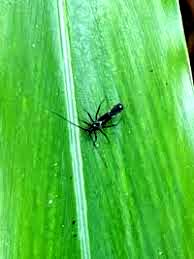Helopeltis-insect: (89, 101, 123, 143)
